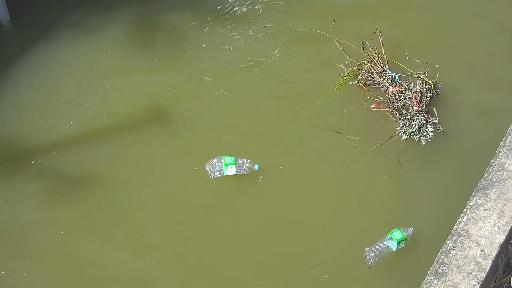plastic: (345, 224, 417, 270), (191, 150, 264, 181)
twig: (300, 16, 457, 156)
